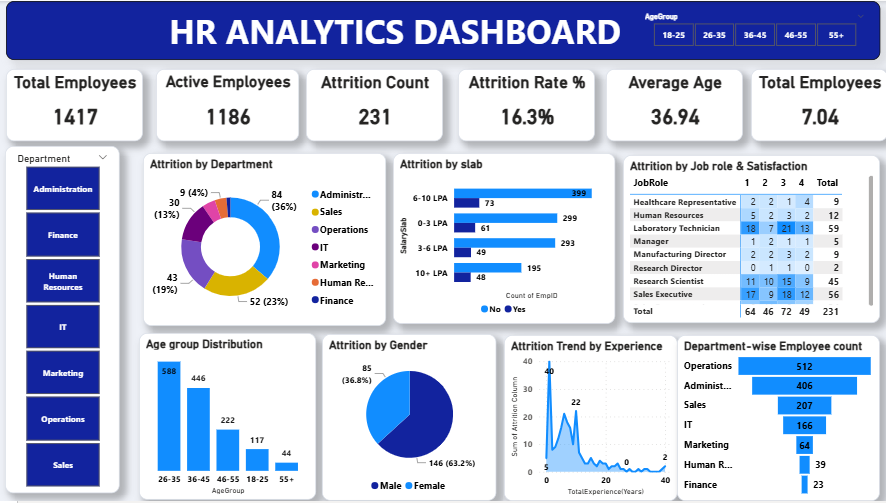

Layout of this report page (visuals, bound fields, positions):
{"tool":"powerbi","page":{"name":"Page 1","canvas":[1280,720],"ordinal":0},"visuals":[{"type":"textbox","box":[10,0,1259,85],"z":0},{"type":"card","title":"Total Employees","fields":{"Values":["CountNonNull(HR_Analytics-4.EmpID)"]},"box":[10.1,97.9,197.3,103.7],"z":1000},{"type":"card","title":"Active Employees","fields":{"Values":["Sum(HR_Analytics-4.EmployeeCount)"]},"box":[226.1,97.9,205.9,103.7],"z":1001},{"type":"card","title":"Attrition Count","fields":{"Values":["Sum(HR_Analytics-4.Attrition Column)"]},"box":[442.1,97.9,197.3,103.7],"z":1002},{"type":"card","title":"Attrition Rate %","fields":{"Values":["HR_Analytics-4.Attrition _%"]},"box":[661,97.9,197.3,103.7],"z":1003},{"type":"card","title":"Average Age","fields":{"Values":["Avg(HR_Analytics-4.Age)"]},"box":[874.1,97.9,197.3,103.7],"z":1004},{"type":"card","title":"Total Employees","fields":{"Values":["Avg(HR_Analytics-4.YearsatCompany)"]},"box":[1082.9,97.9,197.3,103.7],"z":1005},{"type":"donutChart","title":"Attrition by Department","fields":{"Category":["HR_Analytics-4.Department"],"Y":["Sum(HR_Analytics-4.Attrition Column)"]},"box":[207.4,218.9,349.9,249.1],"z":1006},{"type":"clusteredBarChart","title":"Attrition by slab","fields":{"Category":["HR_Analytics-4.SalarySlab"],"Y":["CountNonNull(HR_Analytics-4.EmpID)"],"Series":["HR_Analytics-4.Attrition"]},"box":[567.4,218.9,319.7,246.2],"z":1007},{"type":"pivotTable","title":"Attrition by Job role & Satisfaction","fields":{"Rows":["HR_Analytics-4.JobRole"],"Values":["Sum(HR_Analytics-4.Attrition Column)"],"Columns":["HR_Analytics-4.JobSatisfaction"]},"box":[898.6,221.8,370.1,241.9],"z":1008},{"type":"columnChart","title":"Age group Distribution","fields":{"Category":["HR_Analytics-4.AgeGroup"],"Y":["Sum(HR_Analytics-4.EmployeeCount)"]},"box":[201.6,478.1,255,240.5],"z":1009},{"type":"pieChart","title":"Attrition by Gender","fields":{"Category":["HR_Analytics-4.Gender"],"Y":["Sum(HR_Analytics-4.Attrition Column)"]},"box":[465.1,479.5,250.6,240],"z":1010},{"type":"areaChart","title":"Attrition Trend by Experience","fields":{"Category":["HR_Analytics-4.TotalExperience(Years)"],"Y":["Sum(HR_Analytics-4.Attrition Column)"]},"box":[727.2,481,250,239],"z":1011},{"type":"funnel","title":"Department-wise Employee count","fields":{"Category":["HR_Analytics-4.Department"],"Y":["CountNonNull(HR_Analytics-4.EmpID)"]},"box":[977,481,292,239],"z":1012},{"type":"slicer","fields":{"Values":["HR_Analytics-4.Department"]},"box":[9,209,165,500],"z":1013},{"type":"slicer","fields":{"Values":["HR_Analytics-4.AgeGroup"]},"box":[917.3,11.5,341.3,60.5],"z":1014}]}

Visuals, with their boxes in screenshot pixels (x1, y1, x2, y2), scaled from the page's 1280x720 canvas onto the 886x503 screenshot:
textbox: 7/0/878/59
"Total Employees" card: 7/68/144/141
"Active Employees" card: 157/68/299/141
"Attrition Count" card: 306/68/443/141
"Attrition Rate %" card: 458/68/594/141
"Average Age" card: 605/68/742/141
"Total Employees" card: 750/68/885/141
"Attrition by Department" donutChart: 144/153/386/327
"Attrition by slab" clusteredBarChart: 393/153/614/325
"Attrition by Job role & Satisfaction" pivotTable: 622/155/878/324
"Age group Distribution" columnChart: 140/334/316/502
"Attrition by Gender" pieChart: 322/335/495/502
"Attrition Trend by Experience" areaChart: 503/336/676/502
"Department-wise Employee count" funnel: 676/336/878/502
slicer - HR_Analytics-4.Department: 6/146/120/495
slicer - HR_Analytics-4.AgeGroup: 635/8/871/50
